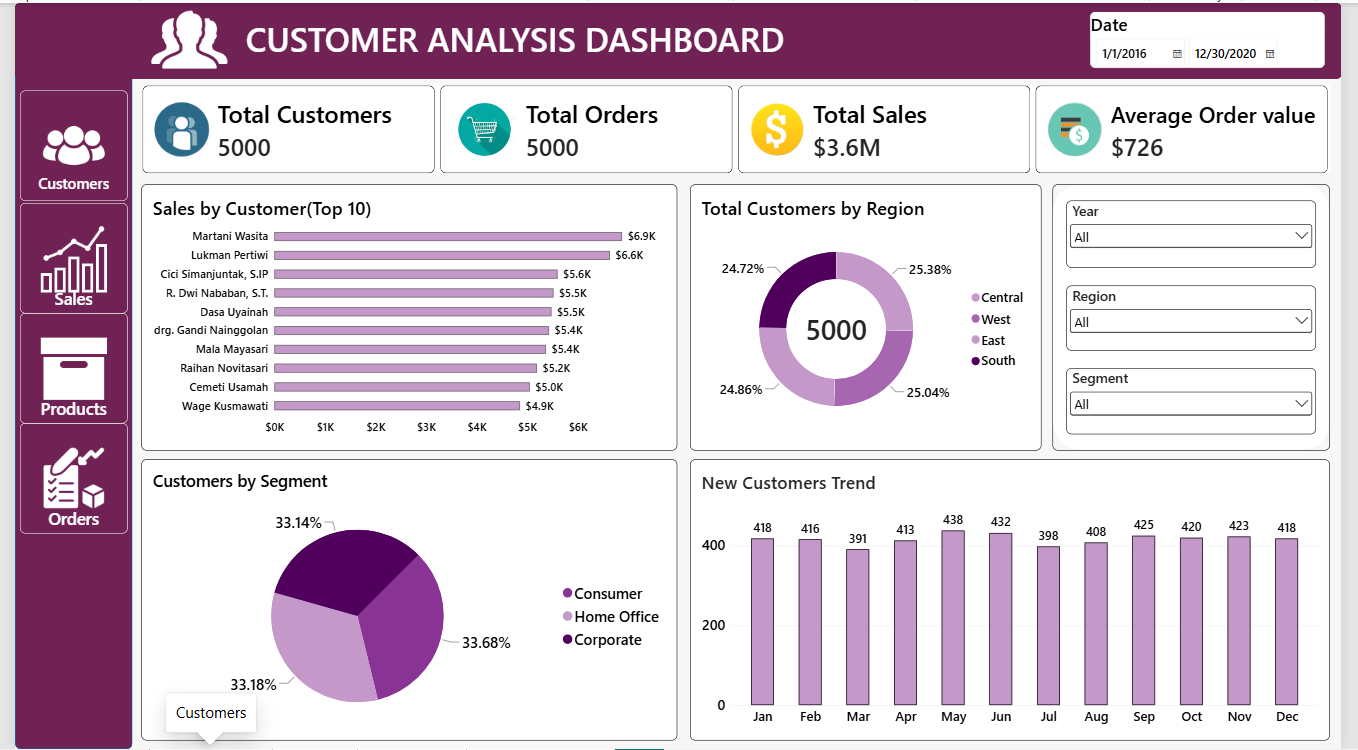

What the dashboard file says about the page in this screenshot:
{"tool":"powerbi","page":{"name":"Customers","canvas":[1920,1080],"ordinal":0},"visuals":[{"type":"cardVisual","fields":{"Data":["Customer_Dim.Total Customers","KPI DAX HOME.Total Orders","KPI DAX HOME.Total Sales","KPI DAX HOME.Average Order value"]},"box":[184.6,119,1719.2,127],"z":0},{"type":"clusteredBarChart","title":"Sales by Customer(Top 10) ","fields":{"Category":["Customer_Dim.Customer Name"],"Y":["KPI DAX HOME.Total Sales"]},"box":[182.8,262.4,776.3,385.5],"z":1000},{"type":"donutChart","fields":{"Category":["Customer_Dim.Region"],"Y":["KPI DAX HOME.Total Customers"]},"box":[977.2,262.4,508.5,385.5],"z":2000},{"type":"columnChart","title":"New Customers Trend","fields":{"Category":["calender.Month Name"],"Y":["KPI DAX HOME.Total Customers"]},"box":[977.2,660.5,926.5,407.2],"z":3000},{"type":"pieChart","title":"Customers by Segment","fields":{"Category":["Customer_Dim.Segment"],"Y":["KPI DAX HOME.Total Customers"]},"box":[182.8,660.5,776.3,407.2],"z":4000},{"type":"shape","box":[1502,262.4,401.7,385.5],"z":5000},{"type":"slicer","fields":{"Values":["calender.Date.Variation.Date Hierarchy.Year"]},"box":[1521.9,285.9,361.9,97.7],"z":6000},{"type":"slicer","fields":{"Values":["Customer_Dim.Region"]},"box":[1521.9,409,361.9,94.1],"z":7000},{"type":"slicer","fields":{"Values":["Customer_Dim.Segment"]},"box":[1521.9,528.4,361.9,95.9],"z":8000},{"type":"shape","box":[0,0,170,1080.4],"z":9000},{"type":"shape","box":[0,0,1920,110],"z":10000},{"type":"slicer","title":"Date","fields":{"Values":["calender.Date"]},"box":[1556.3,12.7,340.2,81.4],"z":11000},{"type":"actionButton","title":"Customer","box":[7.2,289.5,155.6,160],"z":12000},{"type":"actionButton","title":"Customer","box":[7.2,448.8,155.6,160],"z":13000},{"type":"actionButton","title":"Customer","box":[7.2,608,155.6,160],"z":14000},{"type":"actionButton","title":"Customer","box":[7.2,126.7,155.6,160],"z":15000},{"type":"textbox","box":[307.6,0,832.4,110.4],"z":16000},{"type":"image","box":[182.8,0,139.3,110.4],"z":17000}]}

Visuals, with their boxes in screenshot pixels (x1, y1, x2, y2), scaled from the page's 1920x1080 canvas onto the 1358x750 screenshot:
cardVisual - Customer_Dim.Total Customers x KPI DAX HOME.Total Orders: [131,83,1347,171]
"Sales by Customer(Top 10) " clusteredBarChart: [129,182,678,450]
donutChart - Customer_Dim.Region x KPI DAX HOME.Total Customers: [691,182,1051,450]
"New Customers Trend" columnChart: [691,459,1346,741]
"Customers by Segment" pieChart: [129,459,678,741]
shape: [1062,182,1346,450]
slicer - calender.Date.Variation.Date Hierarchy.Year: [1076,199,1332,266]
slicer - Customer_Dim.Region: [1076,284,1332,349]
slicer - Customer_Dim.Segment: [1076,367,1332,434]
shape: [0,0,120,749]
shape: [0,0,1357,76]
"Date" slicer: [1101,9,1341,65]
"Customer" actionButton: [5,201,115,312]
"Customer" actionButton: [5,312,115,423]
"Customer" actionButton: [5,422,115,533]
"Customer" actionButton: [5,88,115,199]
textbox: [218,0,806,77]
image: [129,0,228,77]
